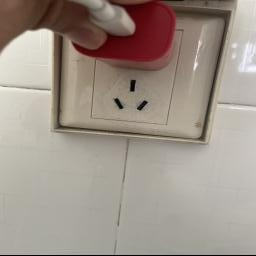outlet: (47, 0, 227, 155)
